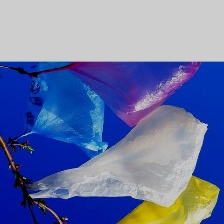plastic_bag: (20, 99, 210, 212), (21, 45, 205, 132), (4, 59, 110, 163), (113, 174, 221, 224)
